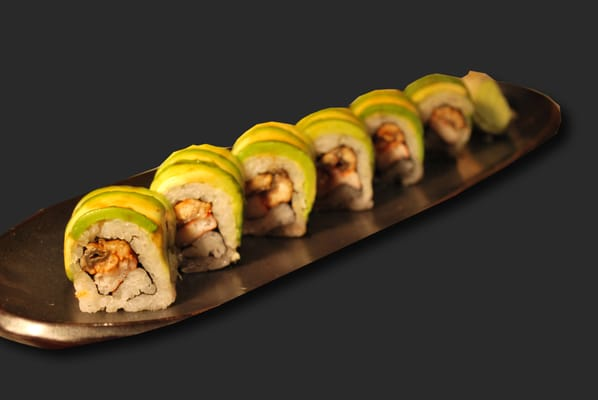pasta: (149, 144, 245, 267), (230, 120, 318, 239), (294, 107, 376, 212), (349, 89, 426, 188)
